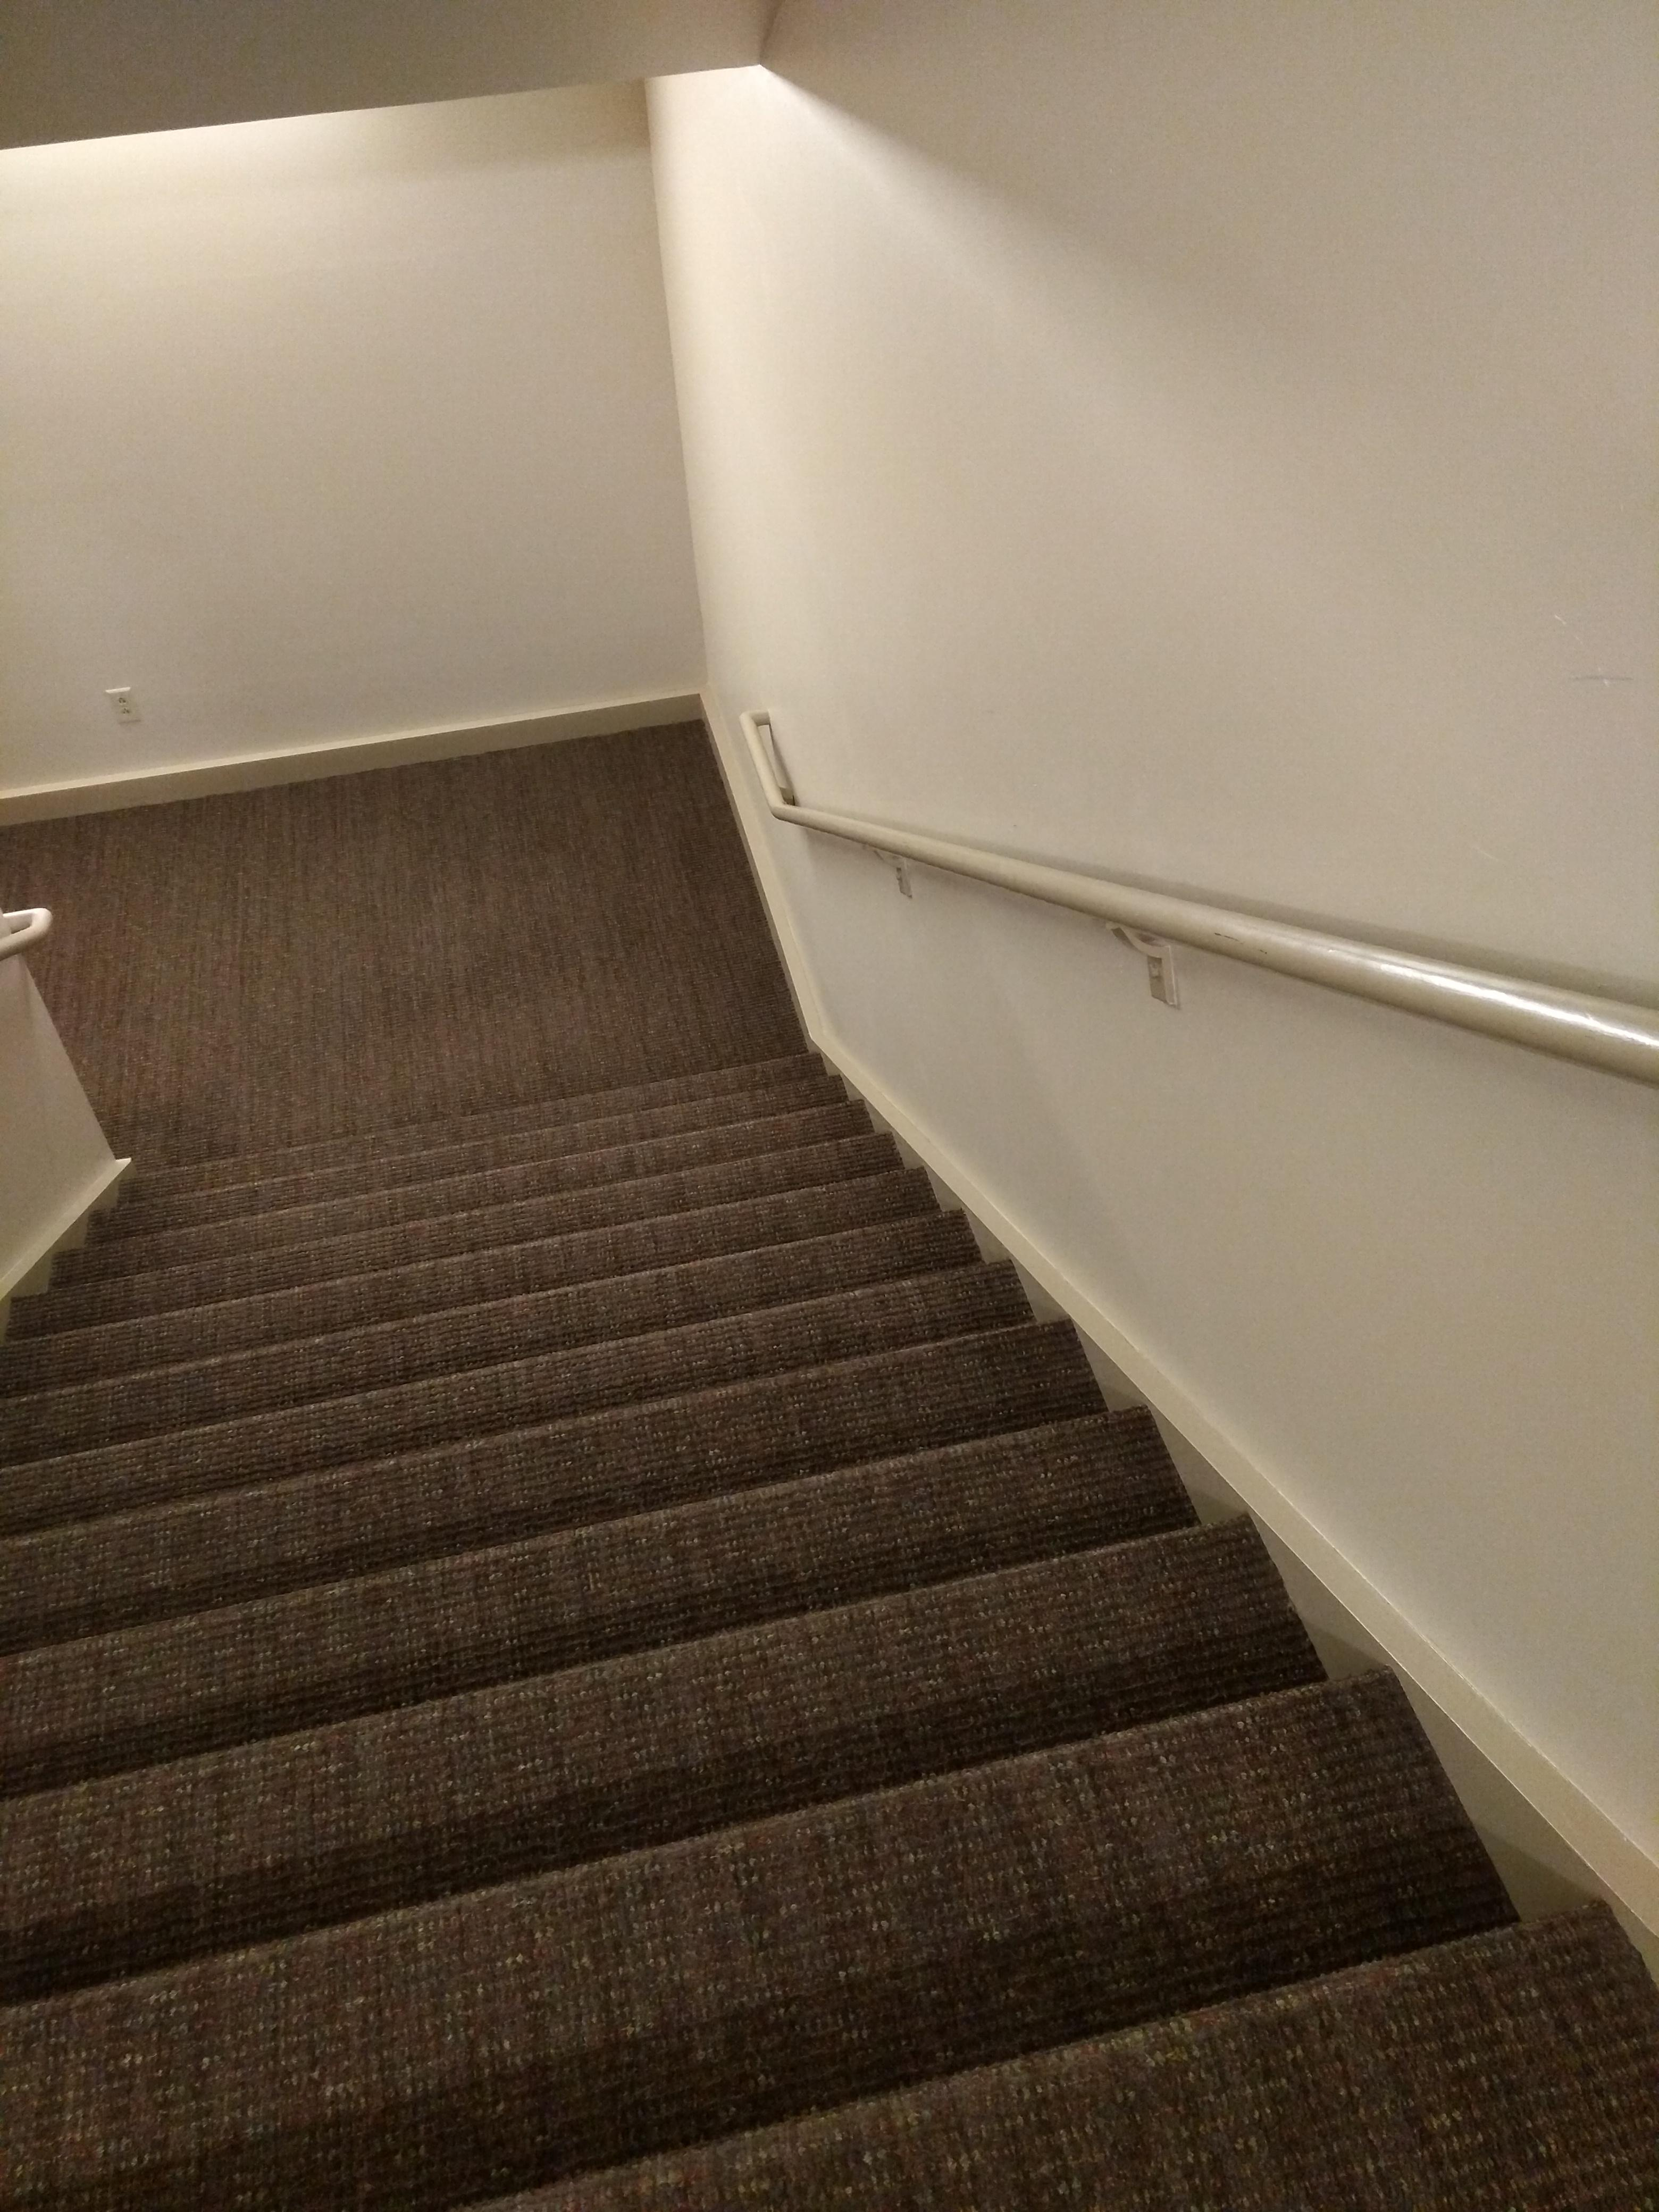stairs_down: (17, 1061, 1596, 2212)
